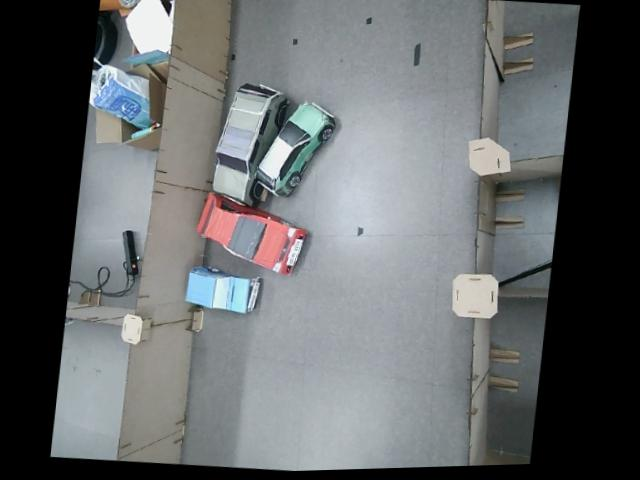car: (189, 185, 312, 281), (208, 76, 292, 212), (250, 95, 339, 202), (182, 261, 263, 317)
